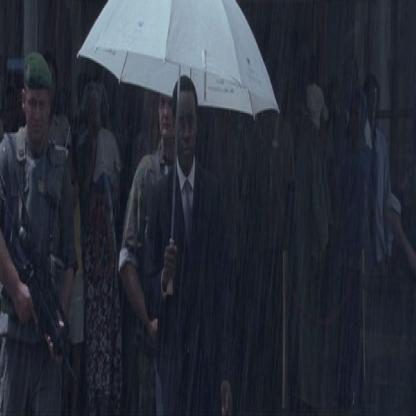Guns: (2, 209, 82, 396)
